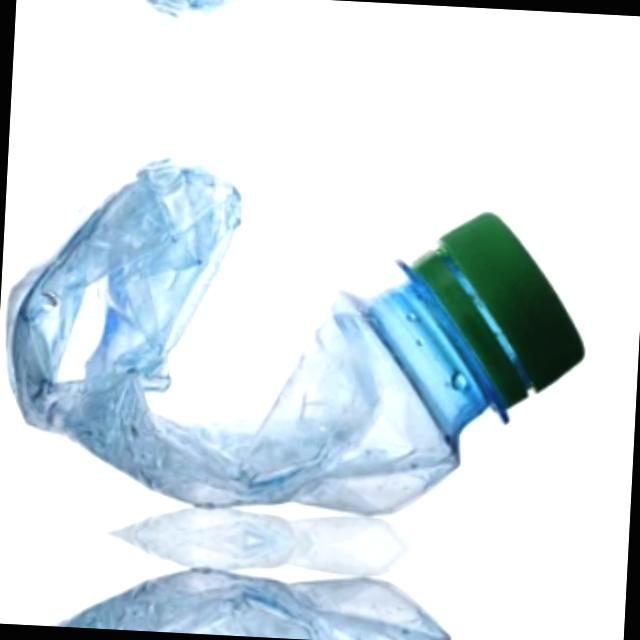Plastic: (0, 100, 584, 537), (0, 546, 561, 640), (13, 0, 590, 87)
